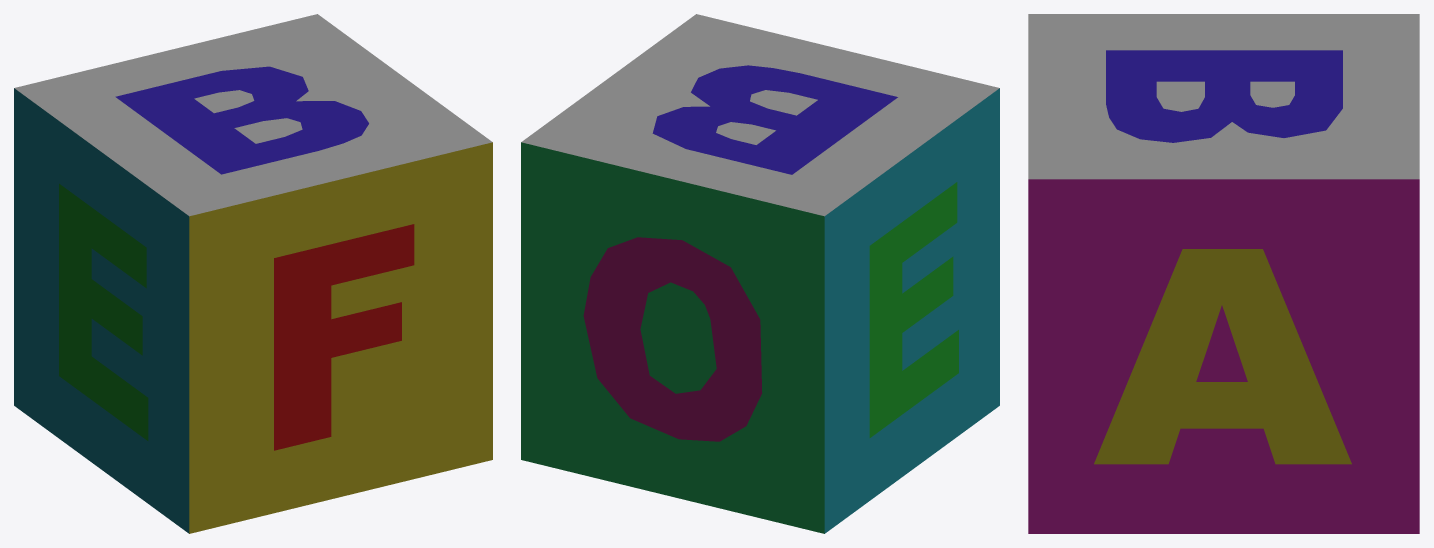
The model's file is toy_cube_letters_01.fbx.
3 views of the same model, side by side, from view 1: azimuth 30°, elevation 25°; view 2: azimuth 150°, elevation 25°; view 3: azimuth 270°, elevation 25° (orthographic). The views are drawn at different scales.
Visible parts, largest first — view 1: toy_cube_letters_01; view 2: toy_cube_letters_01; view 3: toy_cube_letters_01.
Part boxes in pixels (bbox=[...]): toy_cube_letters_01: bbox=[14, 14, 492, 533]; toy_cube_letters_01: bbox=[521, 14, 999, 533]; toy_cube_letters_01: bbox=[1028, 14, 1419, 533].
Bounding box in the file's own units: 45.86 × 45.86 × 45.86.
